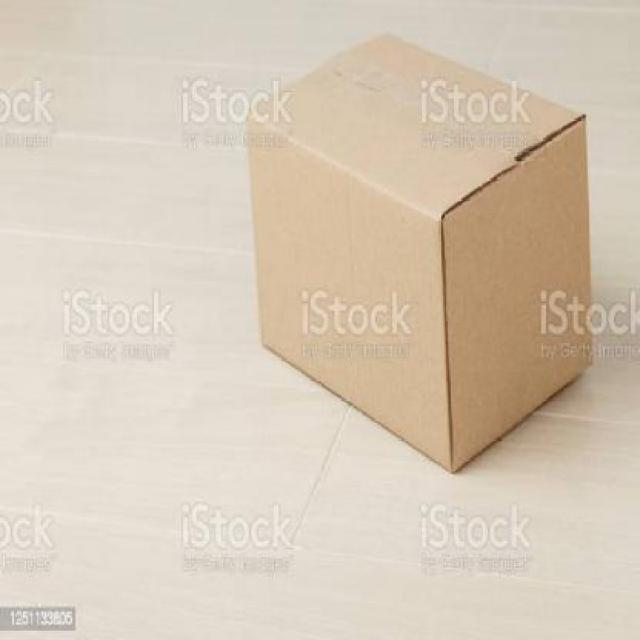box: (247, 29, 597, 471)
